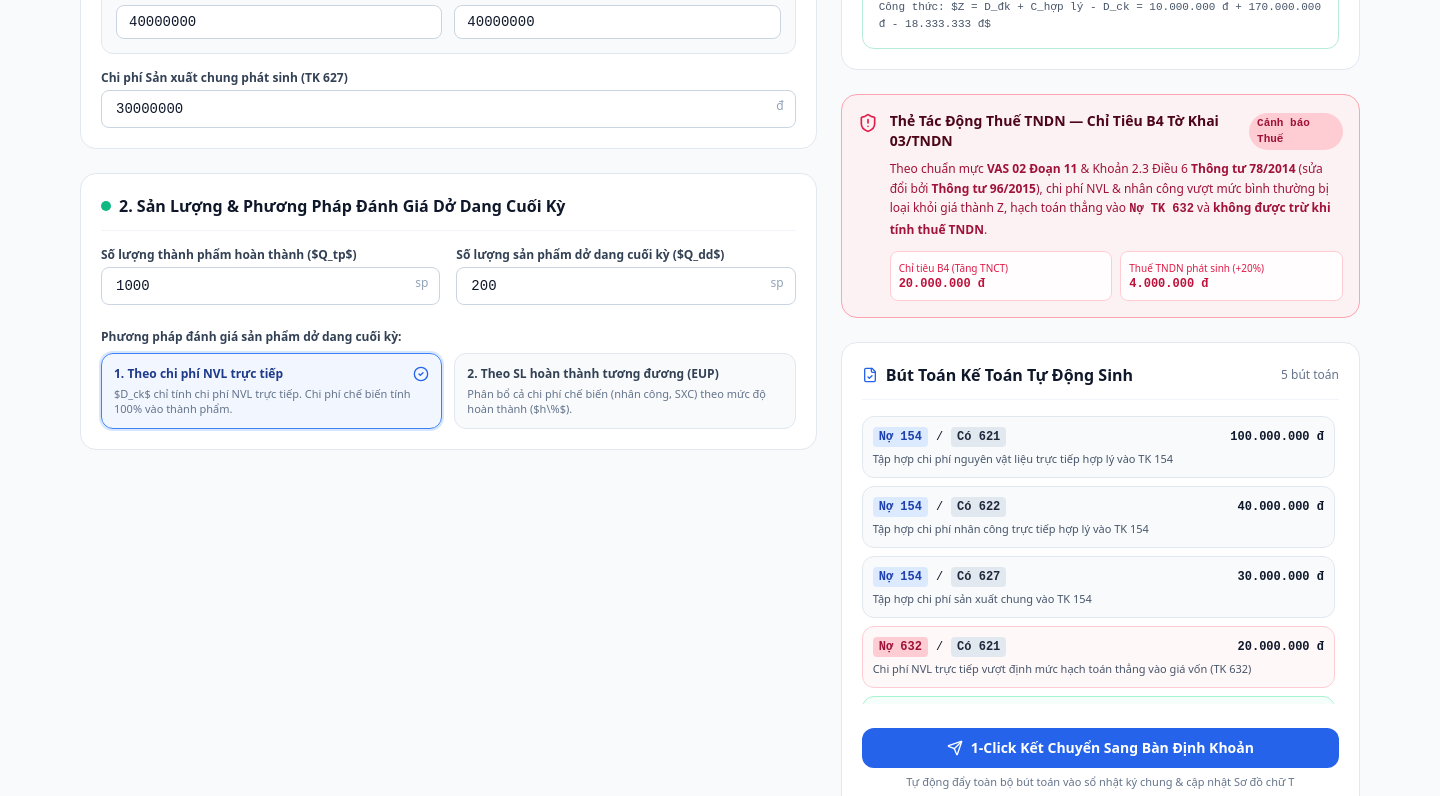
Test: Manufacturing Cost Workbench & Abnormal Waste Calculator (ManufacturingCostCalculator.tsx) › T3.1: Renders all cost input fields (D_dk, NVL, NCTT, SXC, technical norms, Q_tp, Q_dd, % completion)
(page scrolled)
Expected: the number field with test id "input-actual-direct-labor" is shown, [116, 5, 442, 39]
Expected: the number field with test id "input-normal-direct-labor" is shown, [454, 5, 781, 39]
Note: Switch to EUP to reveal completion percentage field
What coordinates should you click on to do the following:
click the button with test id "wip-method-EQUIVALENT_UNITS"
I would click on:
 (625, 391)
Its box is [454, 353, 796, 429].
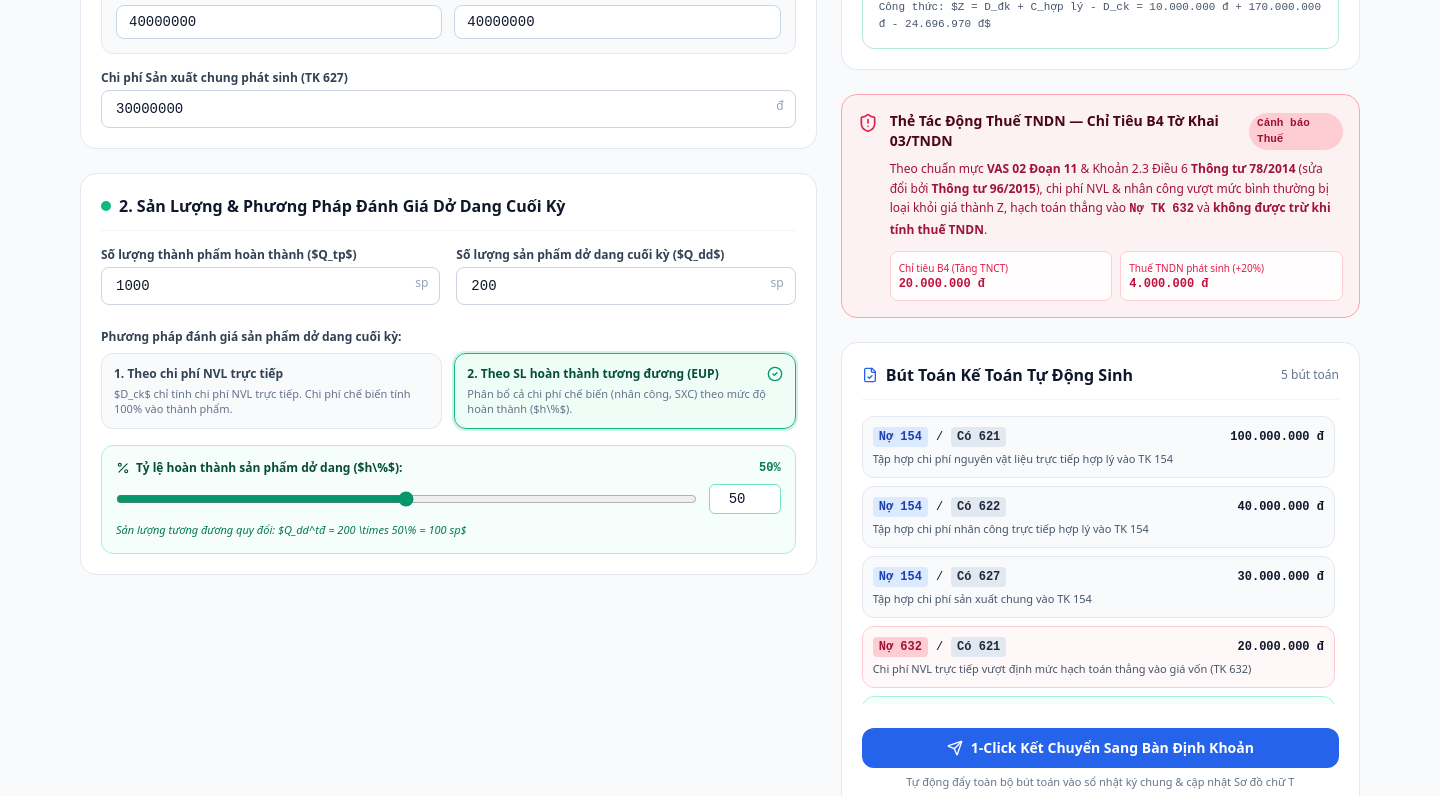
Expected: the number field with test id "input-completion-percentage" is shown, [708, 484, 781, 514]
